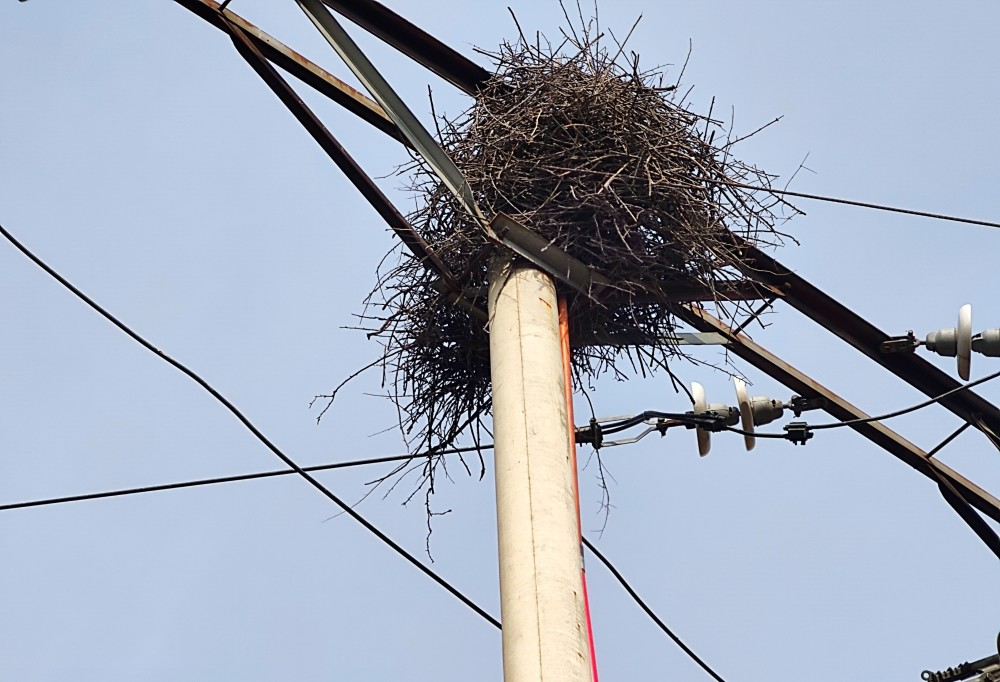niaowo: (317, 58, 753, 432)
